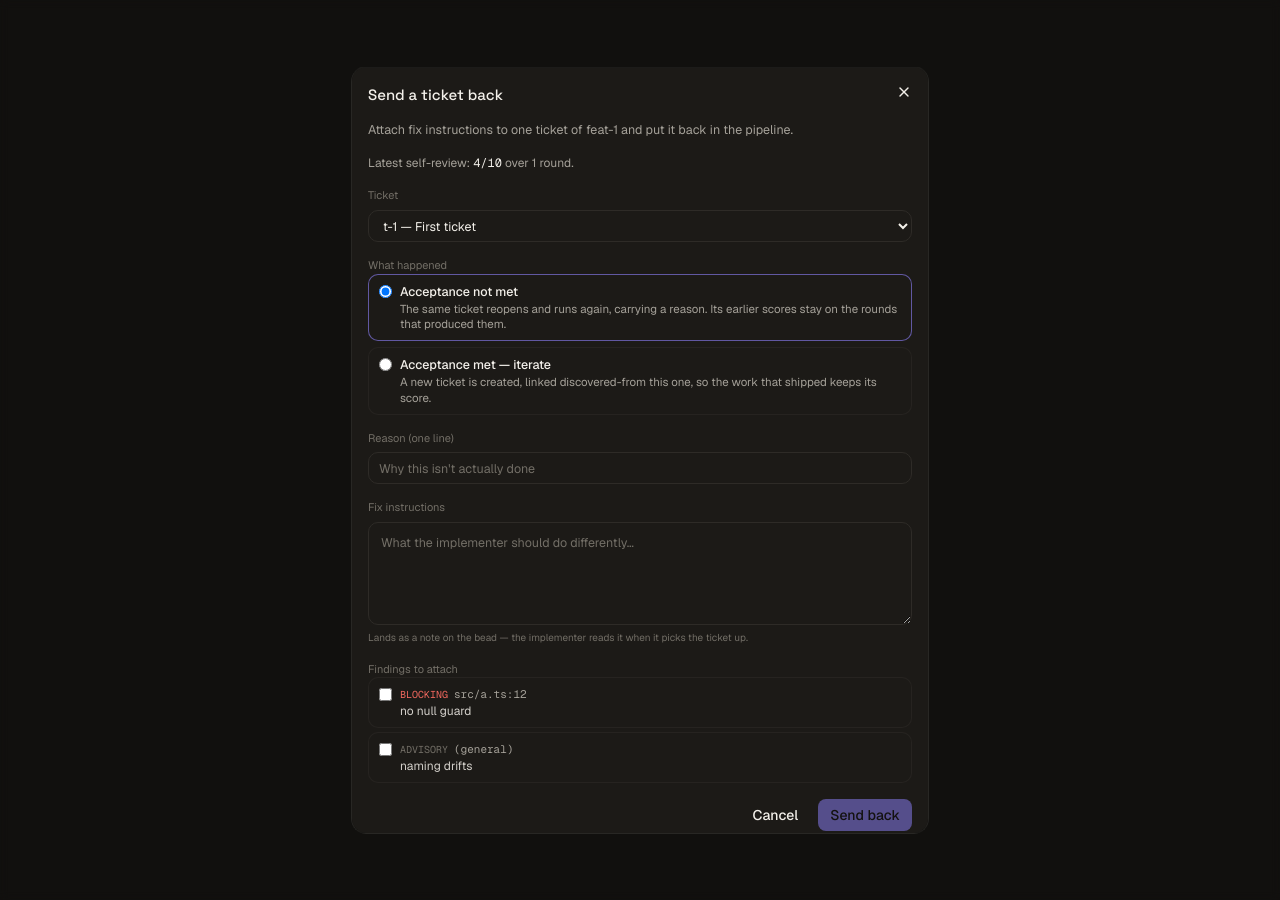
ReworkDialog › shows no refusal on an adequate send-back — it files exactly as before
Expected: the text "no null guard" is shown, [400, 702, 472, 718]
Type "not actually done" into the field labelled "Reason (one line)" at x=640, y=468, box [368, 452, 912, 484]
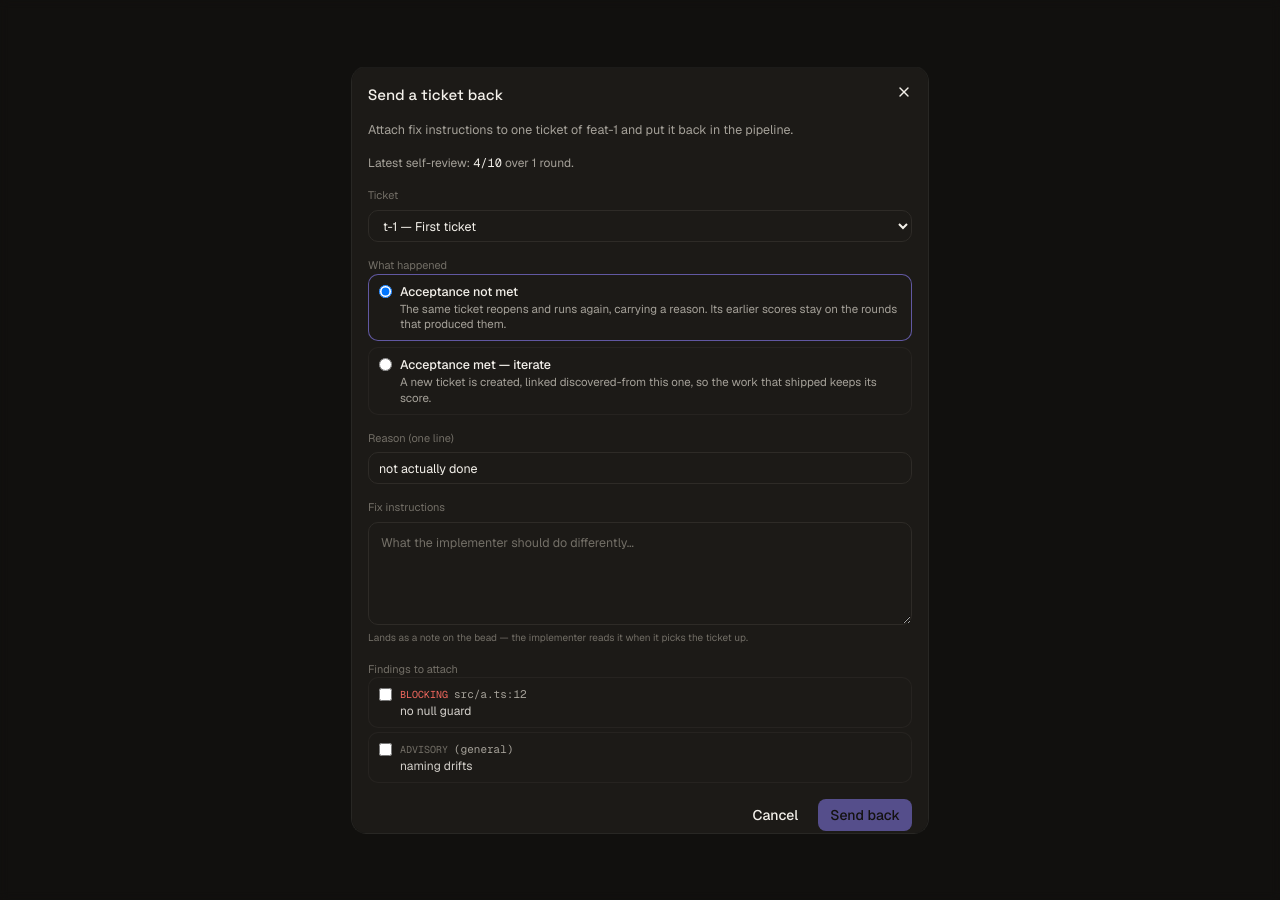
Type "Add the missing test." into the text box labelled "Fix instructions" at x=640, y=573, box [368, 522, 912, 625]
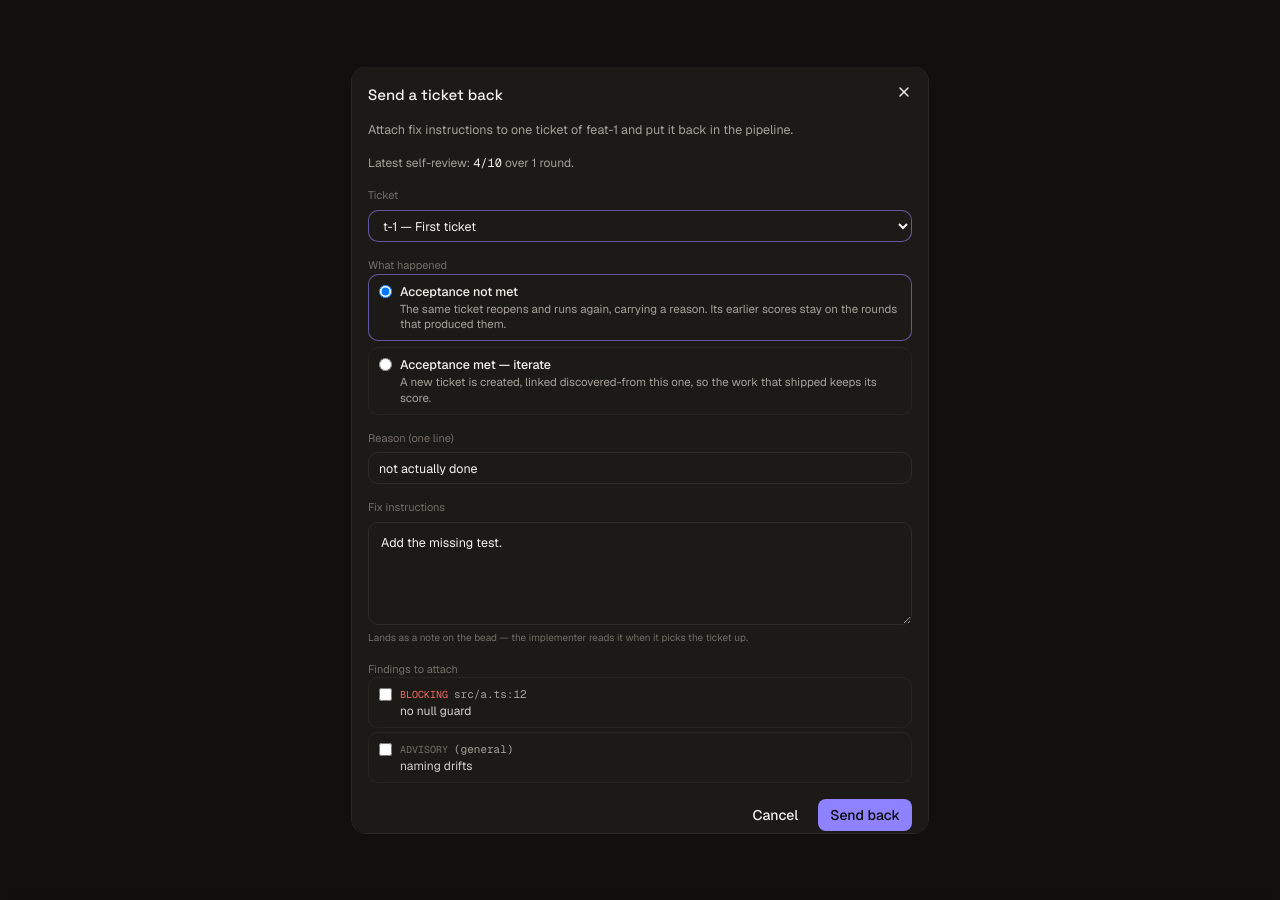
Expected: the button "Send back" is enabled, [818, 799, 912, 831]
